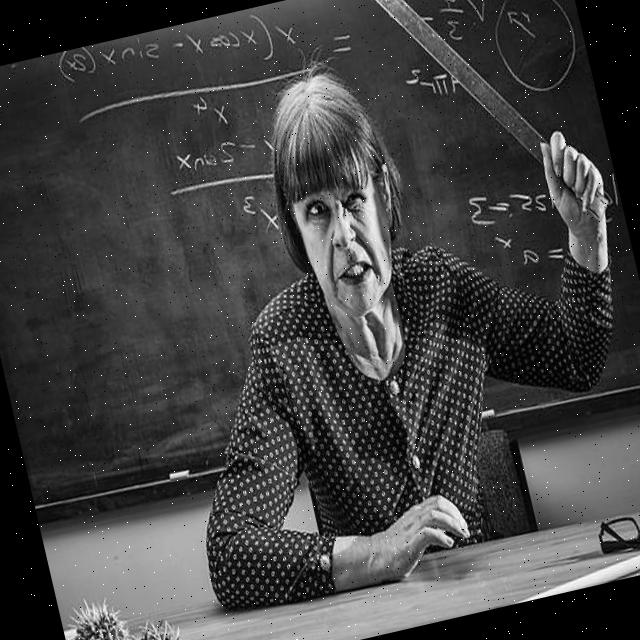Angry: (284, 150, 404, 324)
